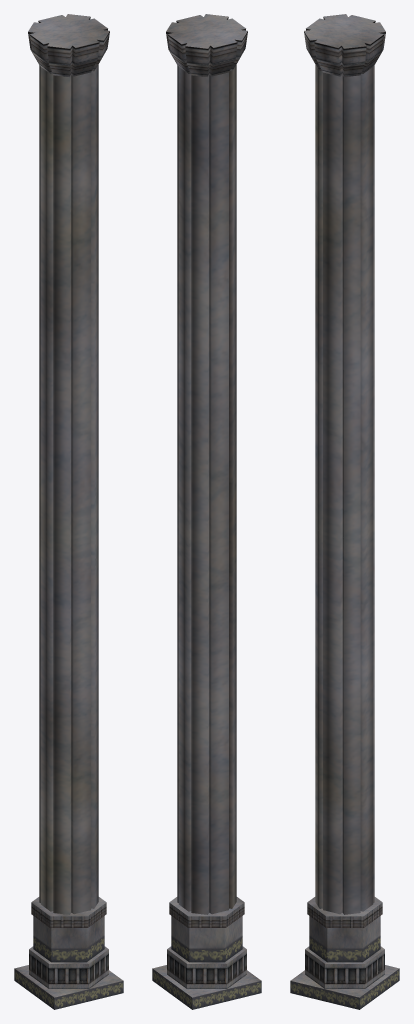
The model's file is column_01.fbx.
The picture shows the model from 3 angles, left to right: view 1: azimuth 30°, elevation 25°; view 2: azimuth 210°, elevation 25°; view 3: azimuth 330°, elevation 25°; orthographic projection.
Visible parts, largest first — view 1: column_01; view 2: column_01; view 3: column_01.
Part boxes in pixels (x1,y1,x2,y2): column_01: (14,14,123,1009); column_01: (152,14,261,1009); column_01: (290,14,399,1009).
Bounding box in the file's own units: 174 × 2302 × 174.
